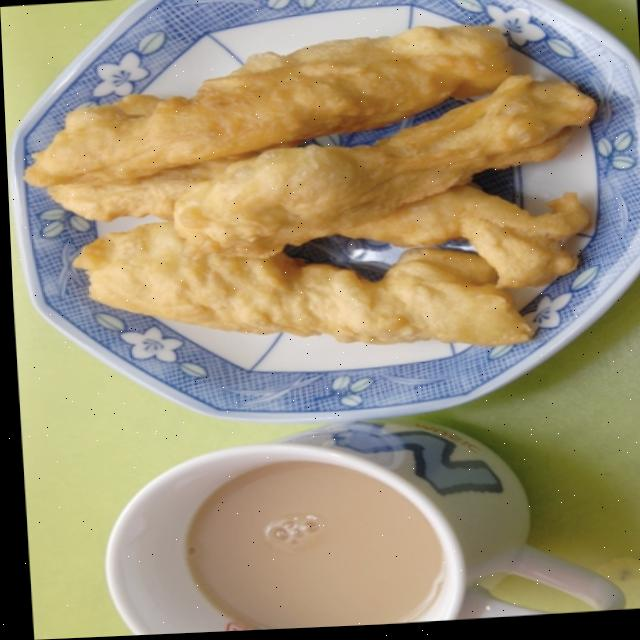炸货点心: (35, 20, 633, 387)
